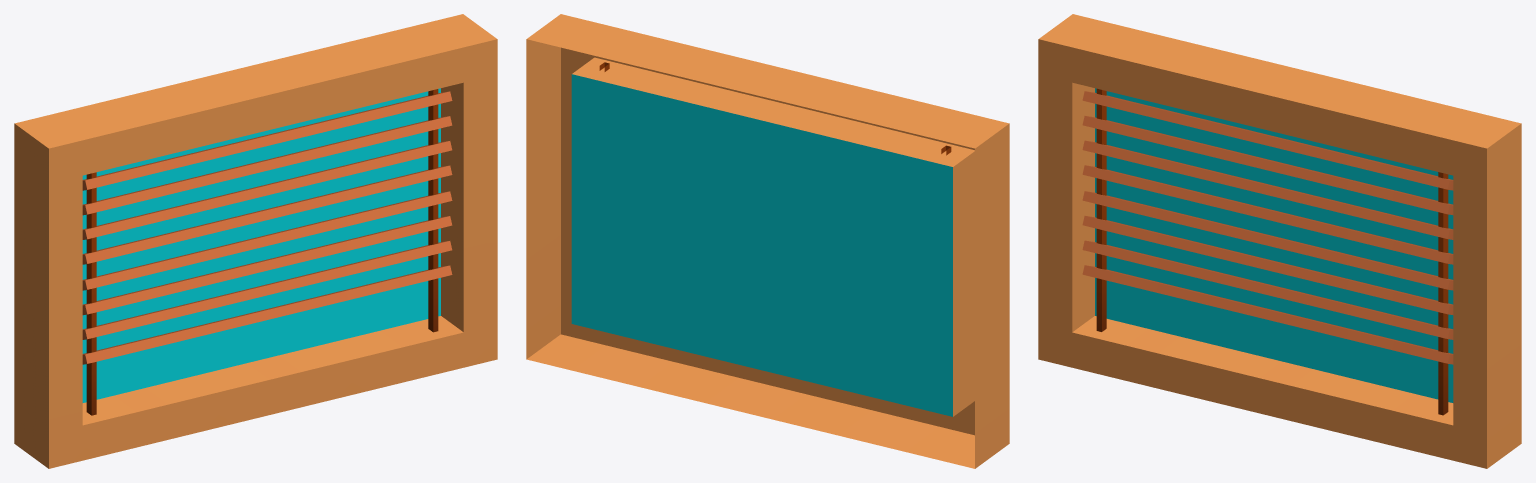
File: JanelaCPersiana.fbx
3 views of the same model, side by side, from view 1: azimuth 30°, elevation 25°; view 2: azimuth 150°, elevation 25°; view 3: azimuth 330°, elevation 25° (orthographic).
Parts seen in each view (by area): view 1: JanelaCPersiana; view 2: JanelaCPersiana; view 3: JanelaCPersiana.
Part boxes in pixels (bbox=[...]): JanelaCPersiana: bbox=[14, 14, 497, 468]; JanelaCPersiana: bbox=[526, 14, 1009, 468]; JanelaCPersiana: bbox=[1038, 14, 1521, 468].
Size of the model in its own units: 147 by 100 by 19.45.
